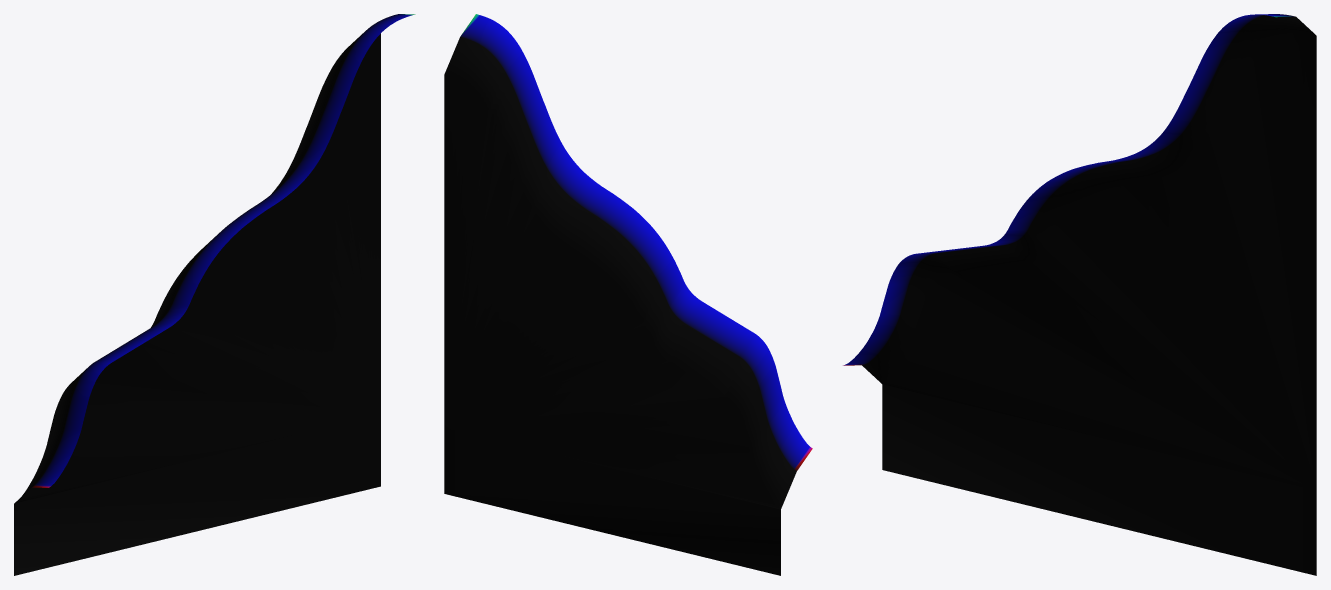
File: 3DSlope.fbx
The picture shows the model from 3 angles, left to right: view 1: azimuth 30°, elevation 25°; view 2: azimuth 150°, elevation 25°; view 3: azimuth 330°, elevation 25°; orthographic projection. The views are drawn at different scales.
Parts seen in each view (by area): view 1: Slope01; view 2: Slope01; view 3: Slope01.
Boxes of the visible parts, box(x1,y1,x2,y2) form: Slope01: box(14, 14, 415, 575); Slope01: box(444, 14, 812, 575); Slope01: box(843, 14, 1316, 575).
Size of the model in its own units: 4739 by 6139 by 777.
